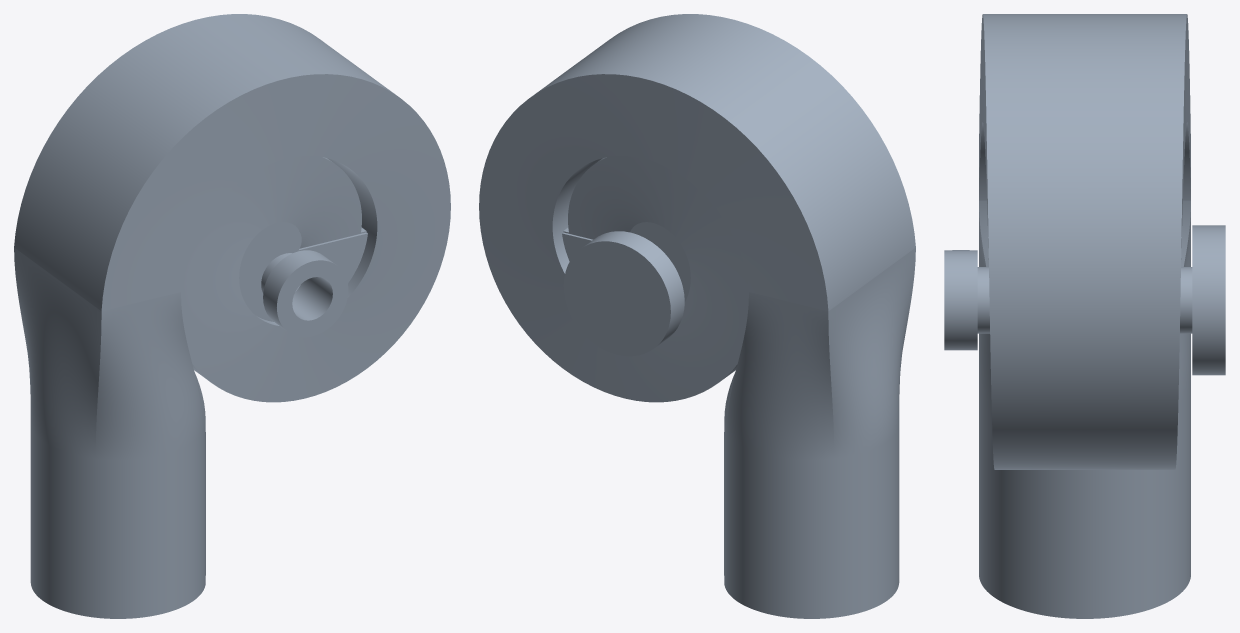
File: air_turbo.obj
3 views of the same model, side by side, from view 1: azimuth 30°, elevation 25°; view 2: azimuth 150°, elevation 25°; view 3: azimuth 270°, elevation 25° (orthographic). The views are drawn at different scales.
Parts seen in each view (by area): view 1: 1, 69; view 2: 1, 69; view 3: 1, 69, 5, 63.
Part boxes in pixels (<box>): 1: <box>14,14,450,618</box>; 69: <box>263,255,348,337</box>; 1: <box>479,14,915,618</box>; 69: <box>563,231,684,356</box>; 1: <box>977,14,1225,618</box>; 69: <box>944,225,1225,375</box>; 5: <box>977,271,989,333</box>; 63: <box>961,250,977,288</box>.
Bounding box in the file's own units: 155 × 201 × 84.14.
